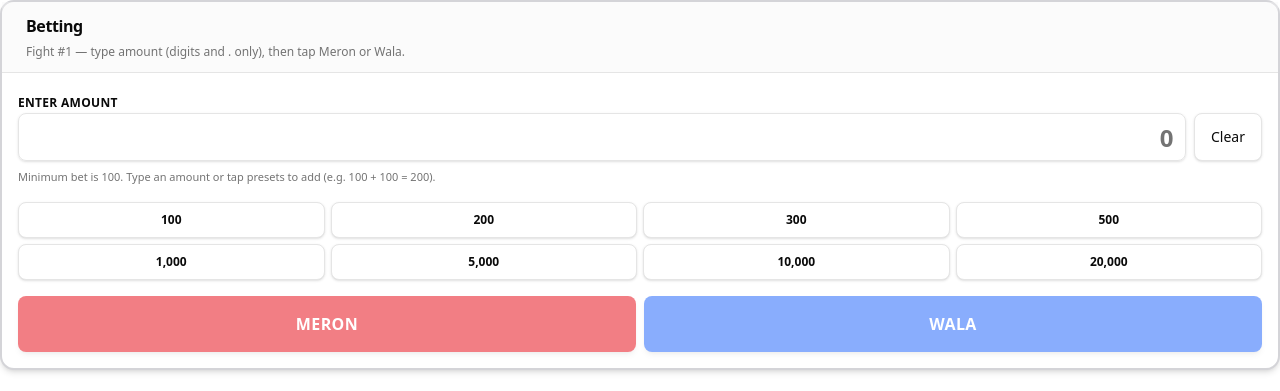
TellerBettingPanel › strips letters from amount input
Type "abc100" into the field labelled "Enter amount".
click(602, 137); type("abc100")  # box [18,113,1186,161]
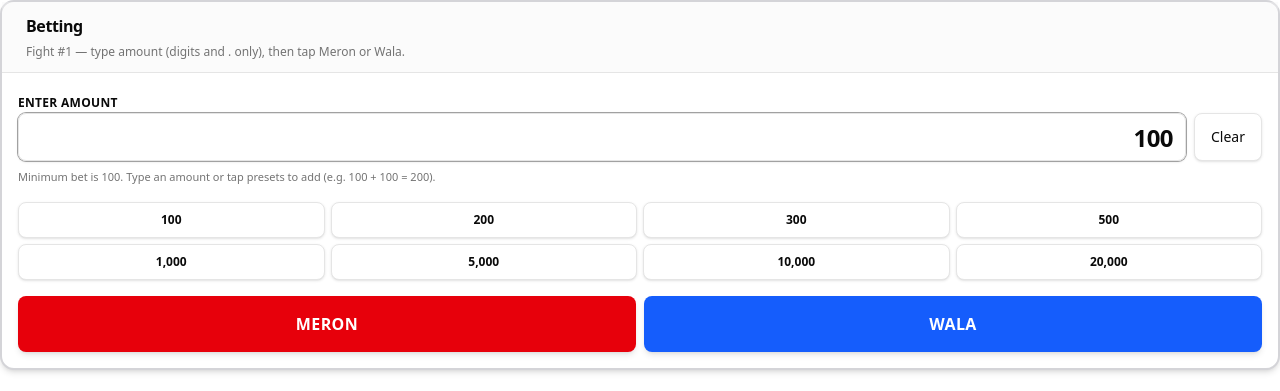
Result: the field labelled "Enter amount" holds "100" at [18,113,1186,161]
